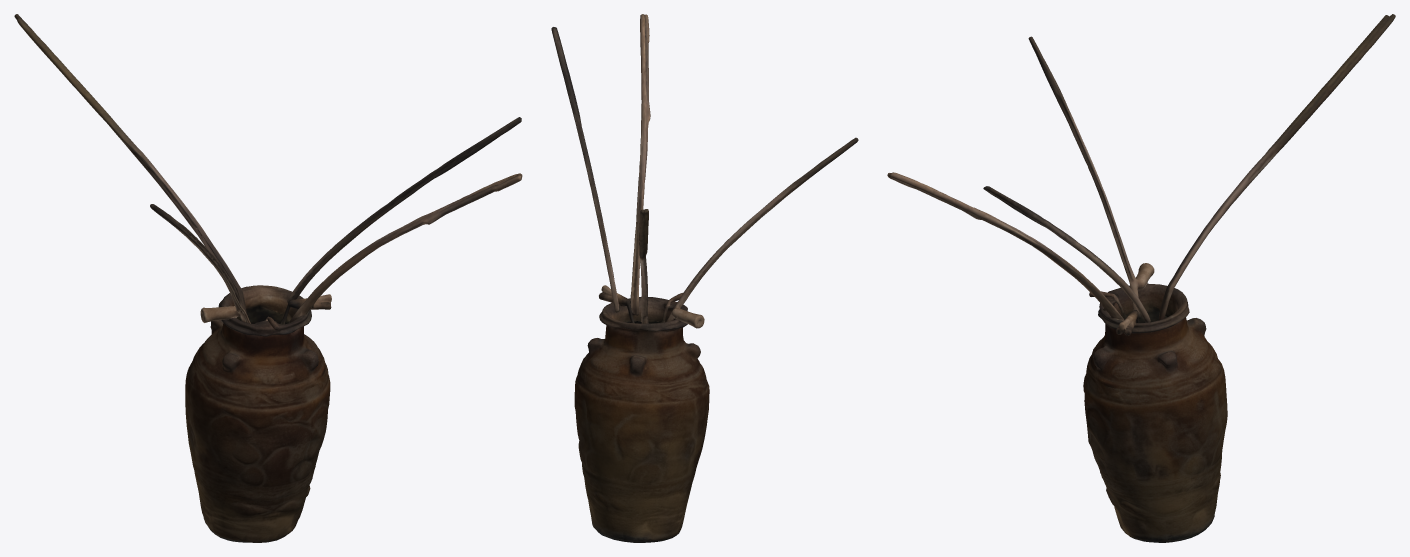
The picture shows the model from 3 angles, left to right: view 1: azimuth 30°, elevation 25°; view 2: azimuth 150°, elevation 25°; view 3: azimuth 270°, elevation 25°; orthographic projection. The views are drawn at different scales.
Bounding box in the file's own units: 0.6504 × 0.8158 × 0.8238.
1 material, 1 textured.
